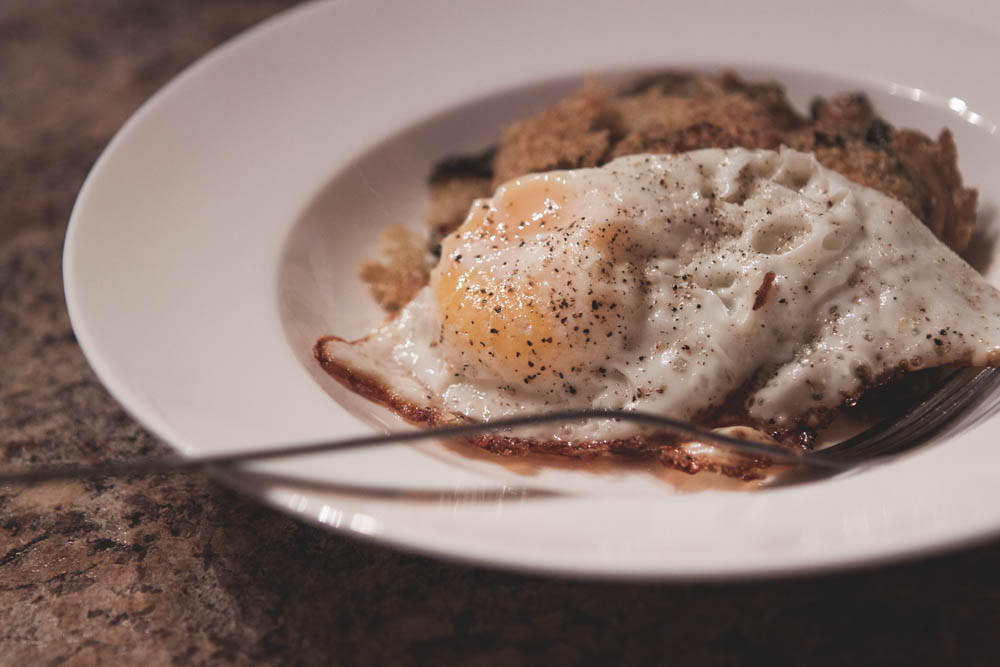fried egg: (393, 149, 943, 465)
